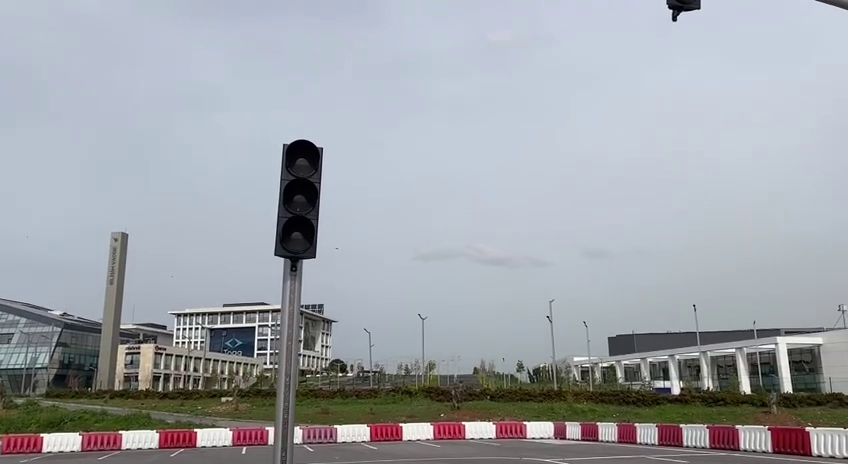trafficLight: (268, 133, 327, 266)
